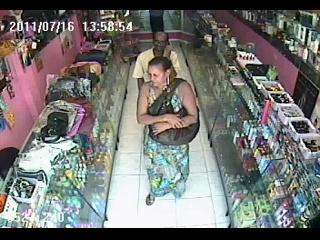Normal: (137, 56, 201, 200), (132, 31, 176, 90), (75, 50, 108, 65)
